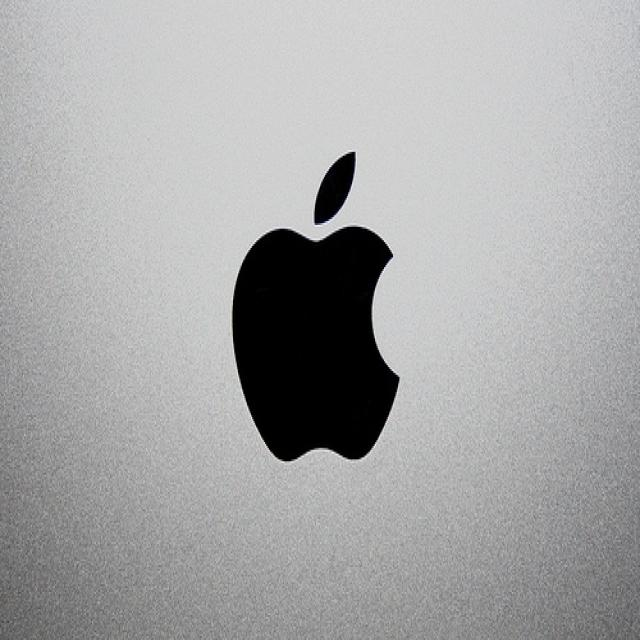apple: (225, 143, 413, 478)
